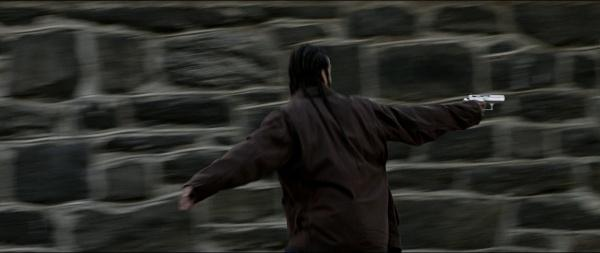Gun: (465, 93, 508, 112)
